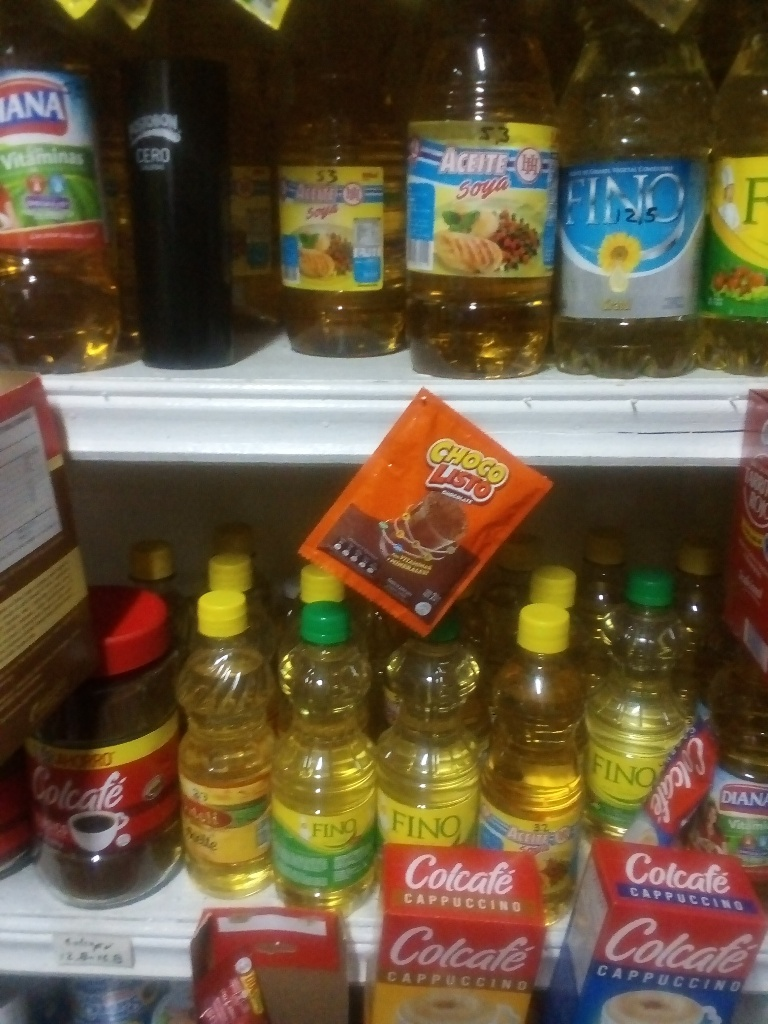COL0170103SOB02000: (285, 377, 564, 642)
